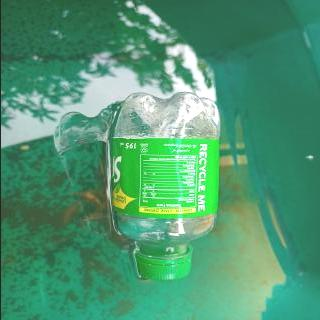bottle: (107, 92, 220, 280)
